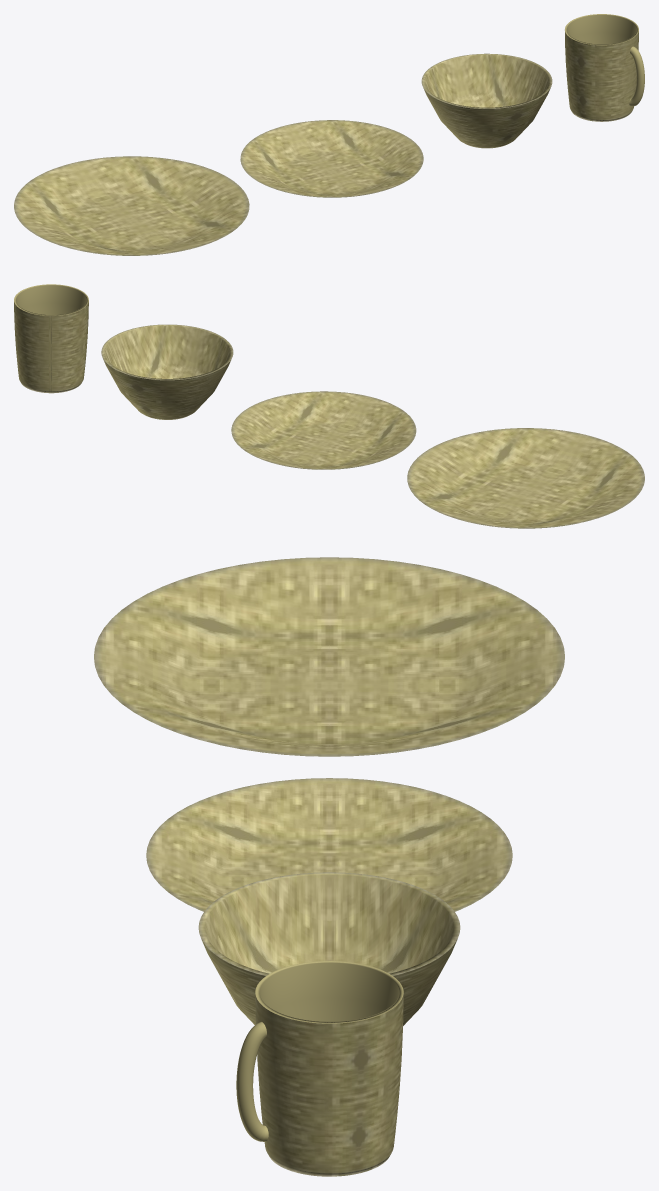
3 views of the same model, one above another, from view 1: azimuth 30°, elevation 25°; view 2: azimuth 150°, elevation 25°; view 3: azimuth 270°, elevation 25° (orthographic). The views are drawn at different scales.
Size of the model in its own units: 0.7995 by 0.1 by 0.27.
Materials: 9 (7 with a texture image).
